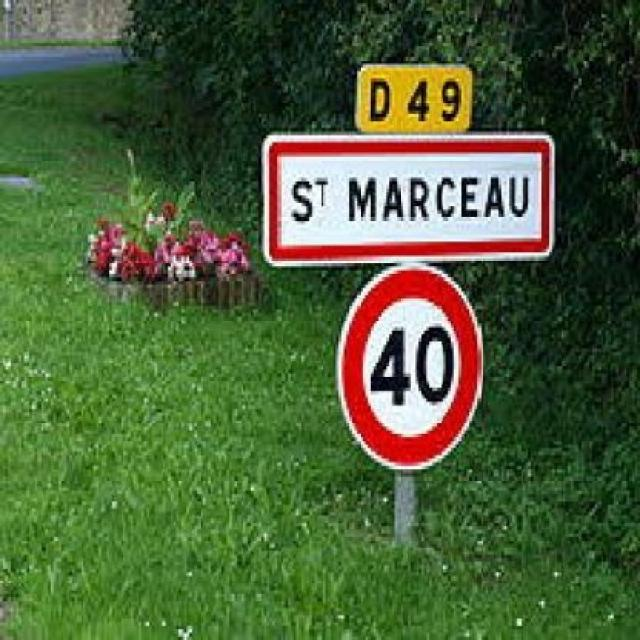forb_speed_over_40: (338, 264, 480, 471)
